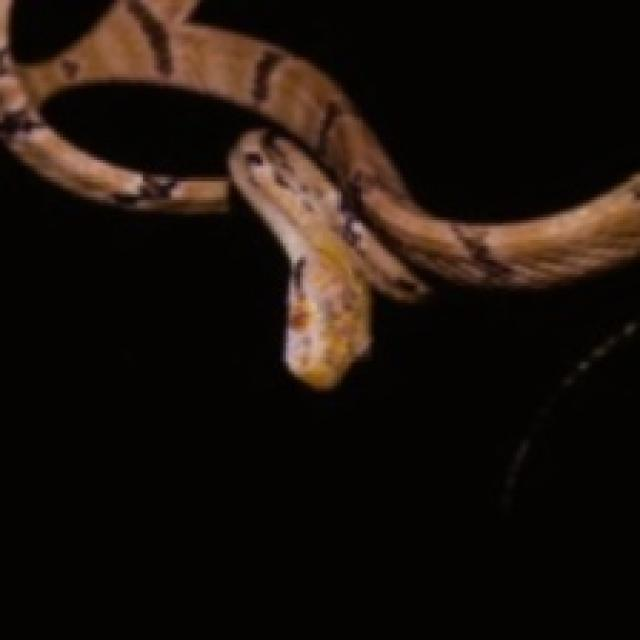dog-toothed cat snake: (0, 0, 637, 386), (40, 80, 274, 177)
